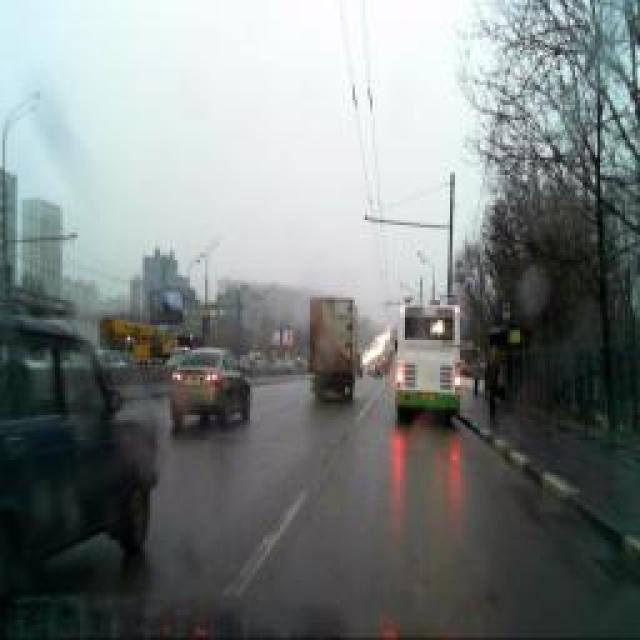sign: (501, 298, 511, 328)
